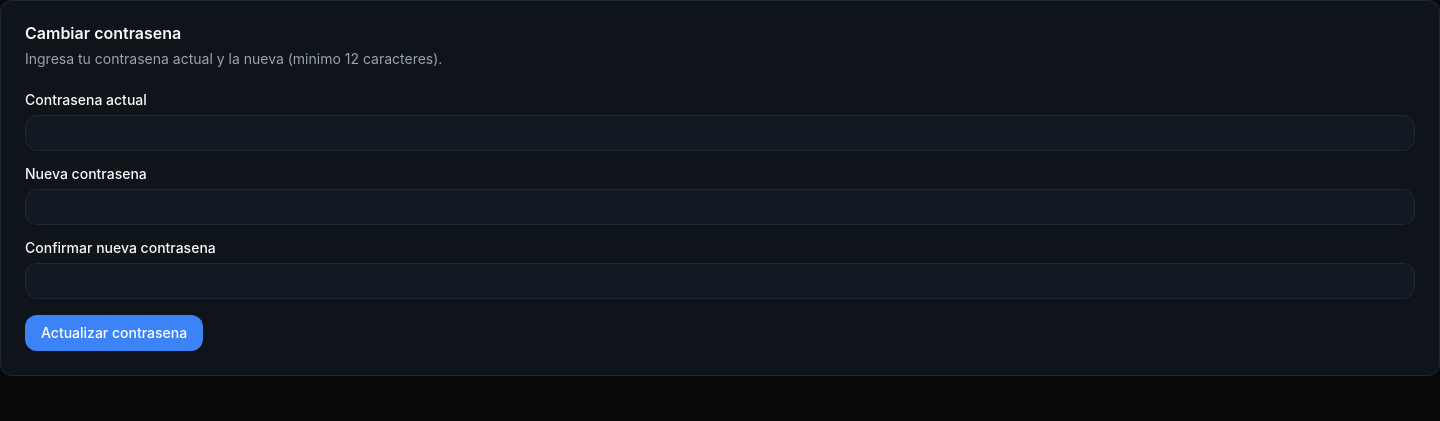
Test: ChangePasswordForm › Given new_password != confirm When submit Then Zod bloquea (no coinciden)
The width and height of the screenshot is (1440, 421).
Step 1. Type "old-pass-123" into the password field labelled "Contrasena actual" → {"x": 720, "y": 133}, box [25,115,1415,151]
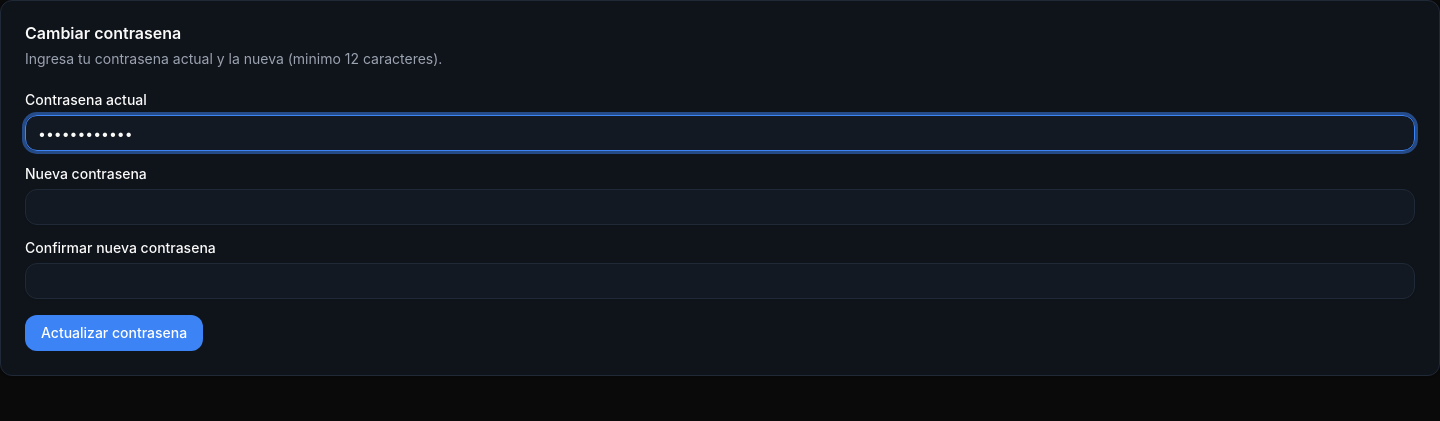
Step 2. Type "nueva-pass-larga-1" into the password field labelled "Nueva contrasena" → {"x": 720, "y": 207}, box [25,189,1415,225]
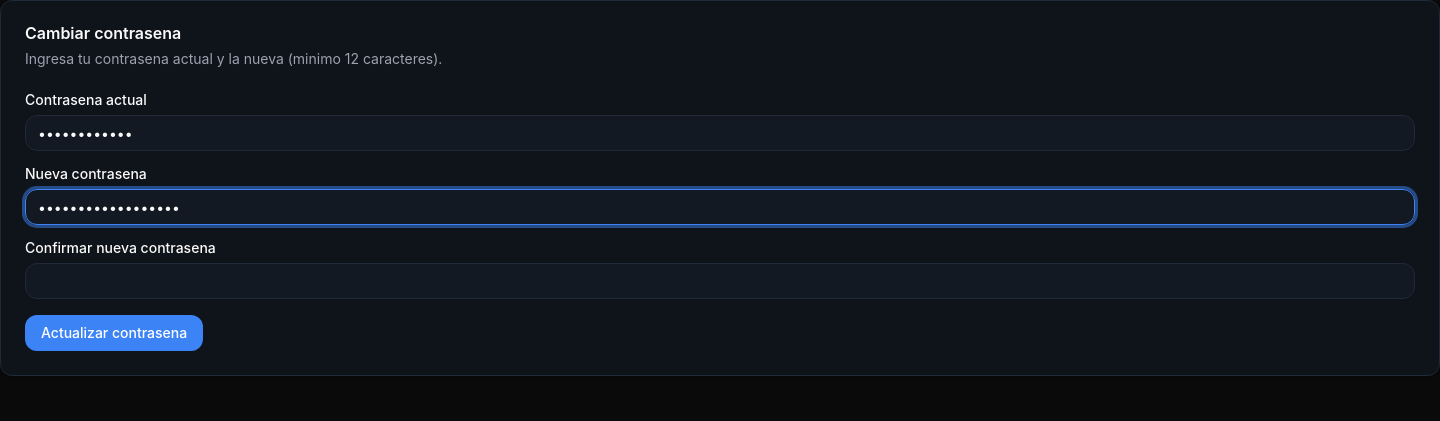
Step 3. Type "otra-pass-larga-9" into the password field labelled "Confirmar nueva contrasena" → {"x": 720, "y": 281}, box [25,263,1415,299]
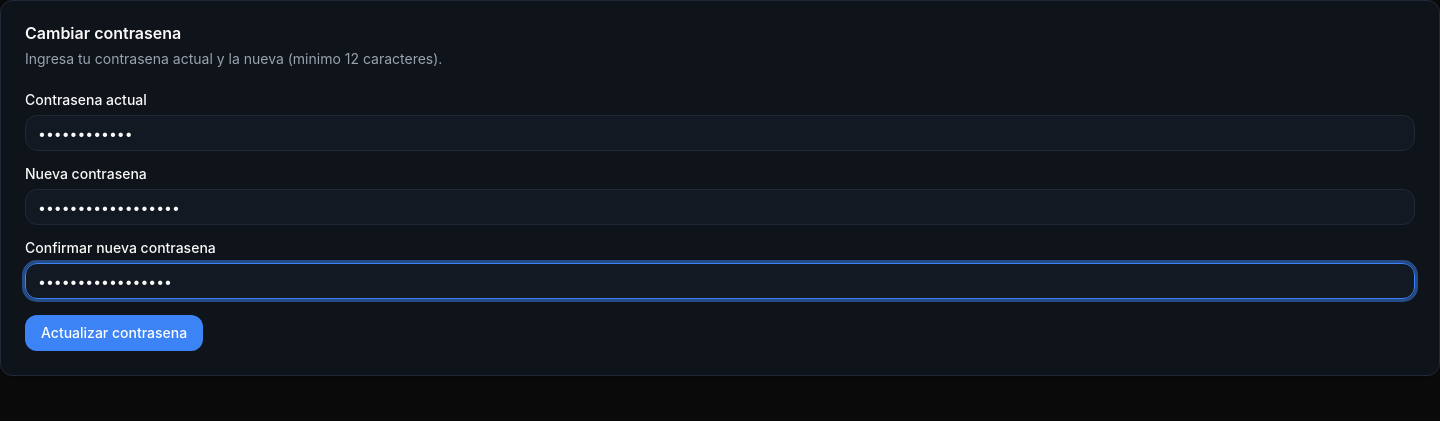
Step 4. Click the button "Actualizar contrasena" → {"x": 114, "y": 333}, box [25,315,203,351]
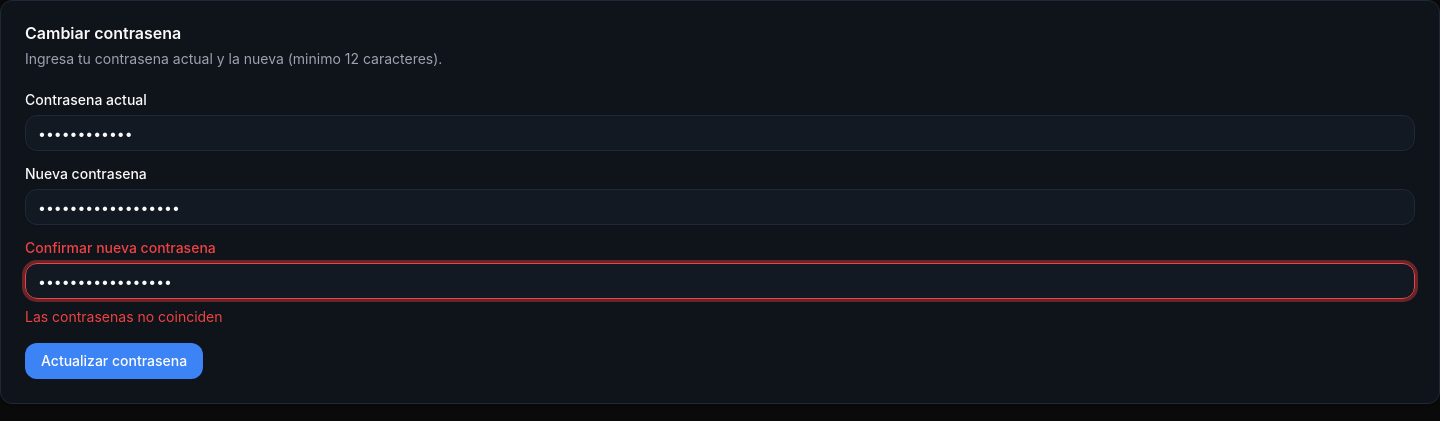
expect the text "Las contrasenas no coinciden" is shown: met, box [25,308,222,325]
